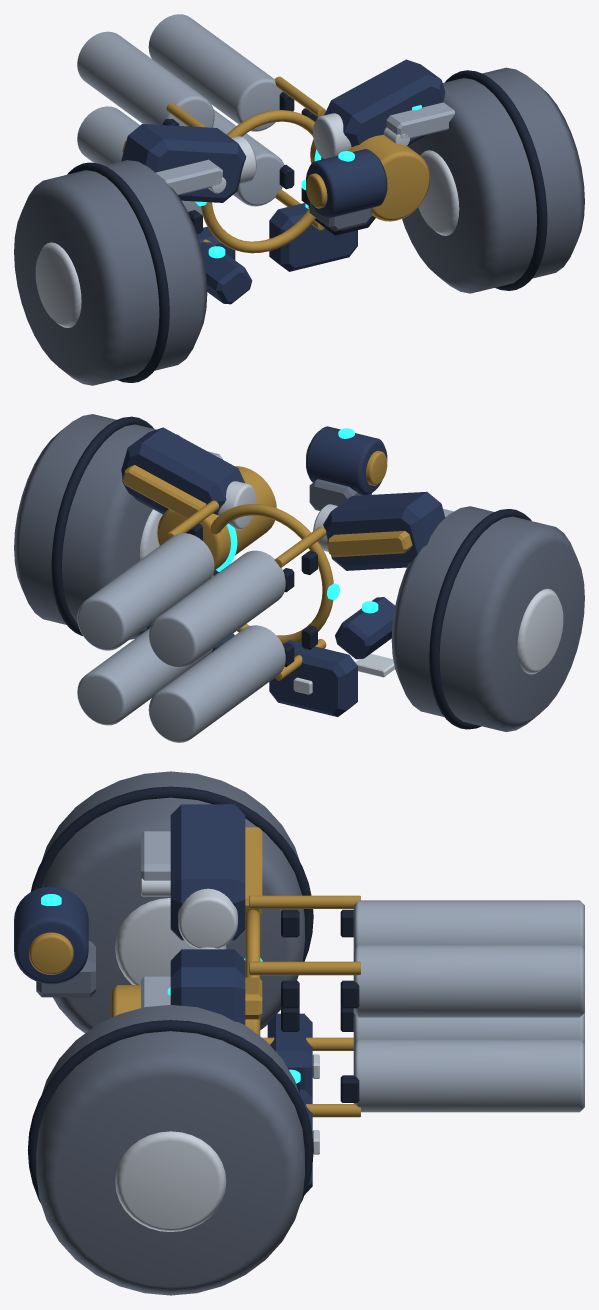
Rendered from tower_skywatch_rate_s10.glb.
3 views of the same model, one above another, from view 1: azimuth 30°, elevation 25°; view 2: azimuth 150°, elevation 25°; view 3: azimuth 270°, elevation 25° (orthographic). The views are drawn at different scales.
Parts seen in each view (by area): view 1: skywatch_big_drum_r, skywatch_big_drum_l, skywatch_cool_jacket1, skywatch_cool_jacket3, skywatch_feed_cover_r, skywatch_feed_cover_l, skywatch_feed_motor, skywatch_cool_tank, skywatch_belt_box-0.24, skywatch_big_drum_cap_r, skywatch_big_drum_rib_l, skywatch_big_drum_rib_r (+12 smaller); view 2: skywatch_big_drum_r, skywatch_big_drum_l, skywatch_cool_jacket2, skywatch_cool_jacket3, skywatch_cool_jacket1, skywatch_feed_cover_r, skywatch_cool_jacket0, skywatch_feed_cover_l, skywatch_belt_box0.24, skywatch_feed_motor, skywatch_cool_tank, skywatch_big_drum_cap_r (+13 smaller); view 3: skywatch_big_drum_l, skywatch_big_drum_r, skywatch_cool_jacket0, skywatch_cool_jacket1, skywatch_cool_jacket3, skywatch_big_drum_cap_l, skywatch_feed_cover_r, skywatch_cool_jacket2, skywatch_big_drum_rib_l, skywatch_feed_cover_l, skywatch_feed_motor, skywatch_big_drum_rib_r (+15 smaller).
Part boxes in pixels (x1,y1,x2,y2): skywatch_big_drum_r: (14,160,207,385); skywatch_big_drum_l: (402,67,584,293); skywatch_cool_jacket1: (148,14,282,131); skywatch_cool_jacket3: (77,31,214,127); skywatch_feed_cover_r: (121,124,246,202); skywatch_feed_cover_l: (324,59,445,147); skywatch_feed_motor: (306,149,387,218); skywatch_cool_tank: (310,135,429,221); skywatch_belt_box-0.24: (269,203,357,271); skywatch_big_drum_cap_r: (35,242,81,327); skywatch_big_drum_rib_l: (445,70,547,290); skywatch_big_drum_rib_r: (67,162,169,382); skywatch_big_drum_r: (391,506,584,731); skywatch_big_drum_l: (14,414,180,639); skywatch_cool_jacket2: (148,625,285,742); skywatch_cool_jacket3: (148,550,285,667); skywatch_cool_jacket1: (77,533,214,650); skywatch_feed_cover_r: (323,491,445,570); skywatch_cool_jacket0: (77,628,212,725); skywatch_feed_cover_l: (121,427,244,514); skywatch_belt_box0.24: (269,640,357,716); skywatch_feed_motor: (306,426,387,495); skywatch_cool_tank: (157,466,276,570); skywatch_big_drum_cap_r: (517,588,563,674); skywatch_big_drum_l: (36,1005,304,1295); skywatch_big_drum_r: (41,771,304,1033); skywatch_cool_jacket0: (353,1039,584,1112); skywatch_cool_jacket1: (353,944,584,1017); skywatch_cool_jacket3: (353,900,584,949); skywatch_big_drum_cap_l: (115,1131,226,1231); skywatch_feed_cover_r: (170,804,245,940); skywatch_cool_jacket2: (353,1013,584,1043); skywatch_big_drum_rib_l: (27,1020,313,1203); skywatch_feed_cover_l: (170,949,245,1024); skywatch_feed_motor: (14,886,88,984); skywatch_big_drum_rib_r: (31,786,313,961).
Bounding box in the file's own units: 1.92 × 0.8198 × 1.53.
